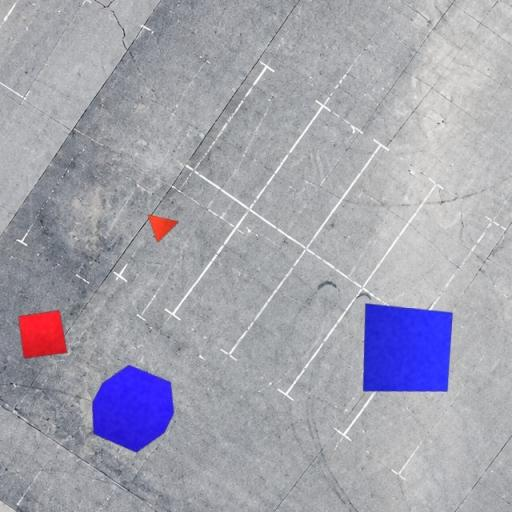BLUE_SQUARE: (362, 303, 453, 393)
RED_SQUARE: (18, 310, 68, 359)
